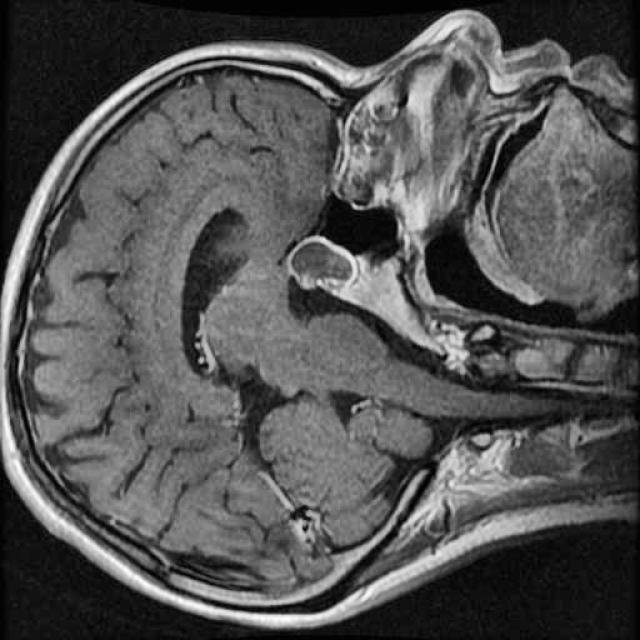Tumor: (271, 209, 380, 318)
